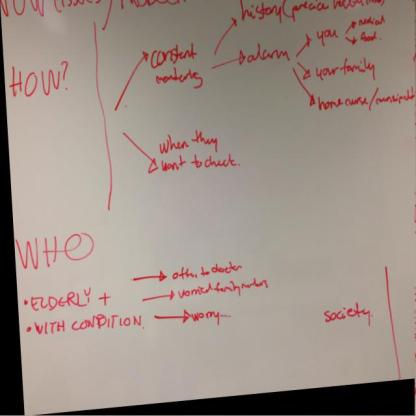Handwritten text: (12, 229, 99, 273), (26, 311, 150, 341), (318, 296, 380, 337), (173, 278, 281, 299), (314, 89, 416, 111), (8, 64, 68, 100), (150, 126, 225, 152), (314, 54, 381, 82), (158, 156, 238, 177), (29, 287, 96, 312), (173, 260, 245, 280), (150, 68, 208, 90), (147, 43, 199, 66), (246, 40, 287, 67), (237, 2, 285, 23), (313, 25, 340, 52), (191, 305, 225, 326), (355, 16, 386, 30), (356, 29, 380, 47)
